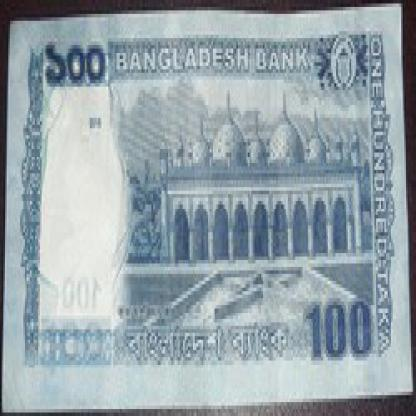one hundred taka: (302, 288, 374, 367), (38, 31, 110, 94)
